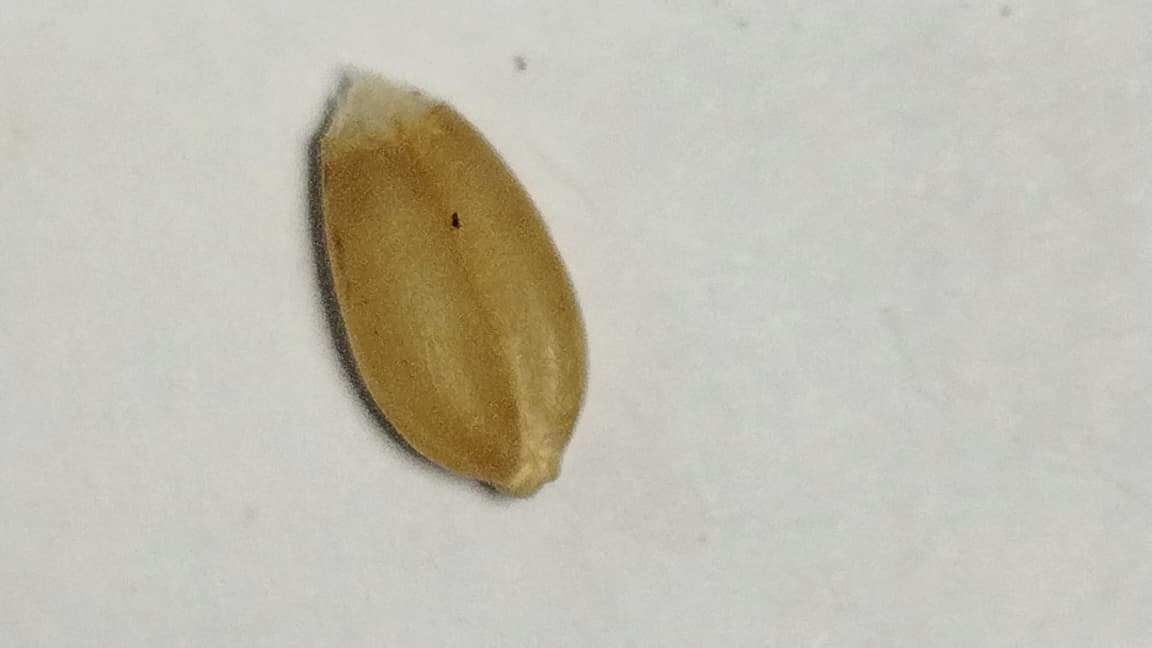healthy: (318, 85, 586, 496)
